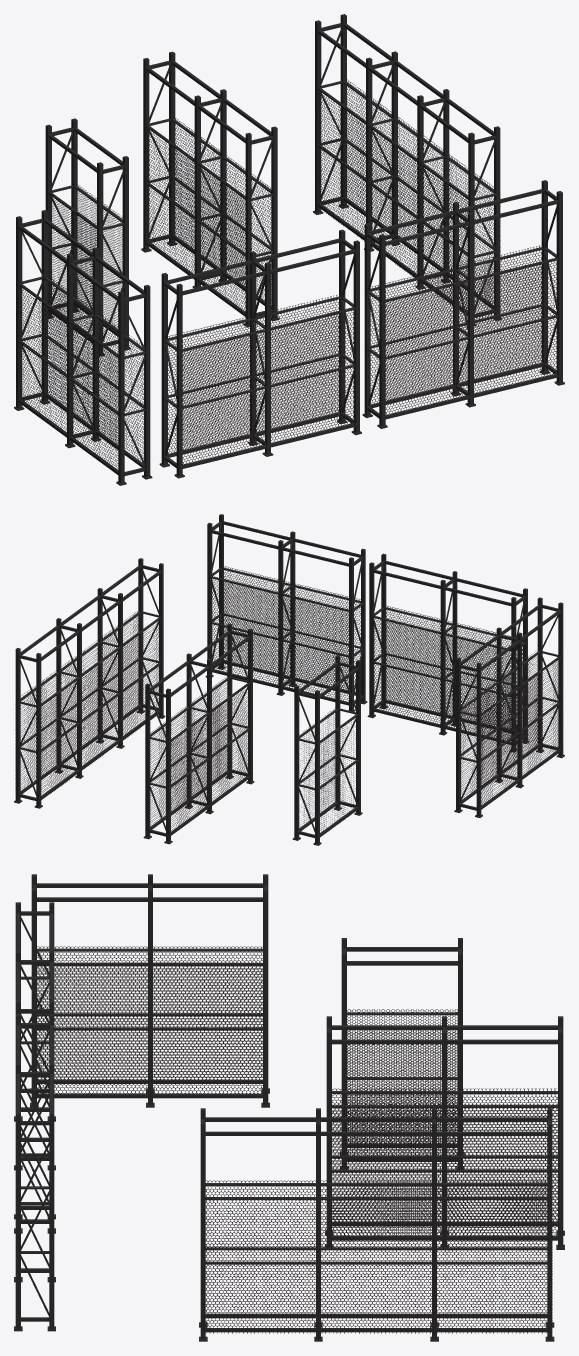
The model's file is Metal_Rack.fbx.
3 renders of one model, top to bottom at view 1: azimuth 30°, elevation 25°; view 2: azimuth 150°, elevation 25°; view 3: azimuth 270°, elevation 25°, orthographic. The views are drawn at different scales.
Visible parts, largest first — view 1: Metal_Rack; view 2: Metal_Rack; view 3: Metal_Rack.
Part boxes in pixels (box(x1,y1,x2,y2)): Metal_Rack: box(14, 14, 564, 485); Metal_Rack: box(14, 514, 564, 845); Metal_Rack: box(14, 874, 564, 1341).
Size of the model in its own units: 773 by 310 by 713.
